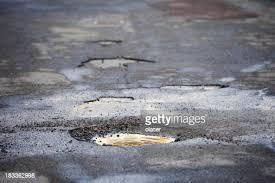pothole: (65, 117, 269, 169), (70, 50, 166, 81), (150, 77, 239, 107), (76, 90, 149, 113), (82, 31, 132, 50)
